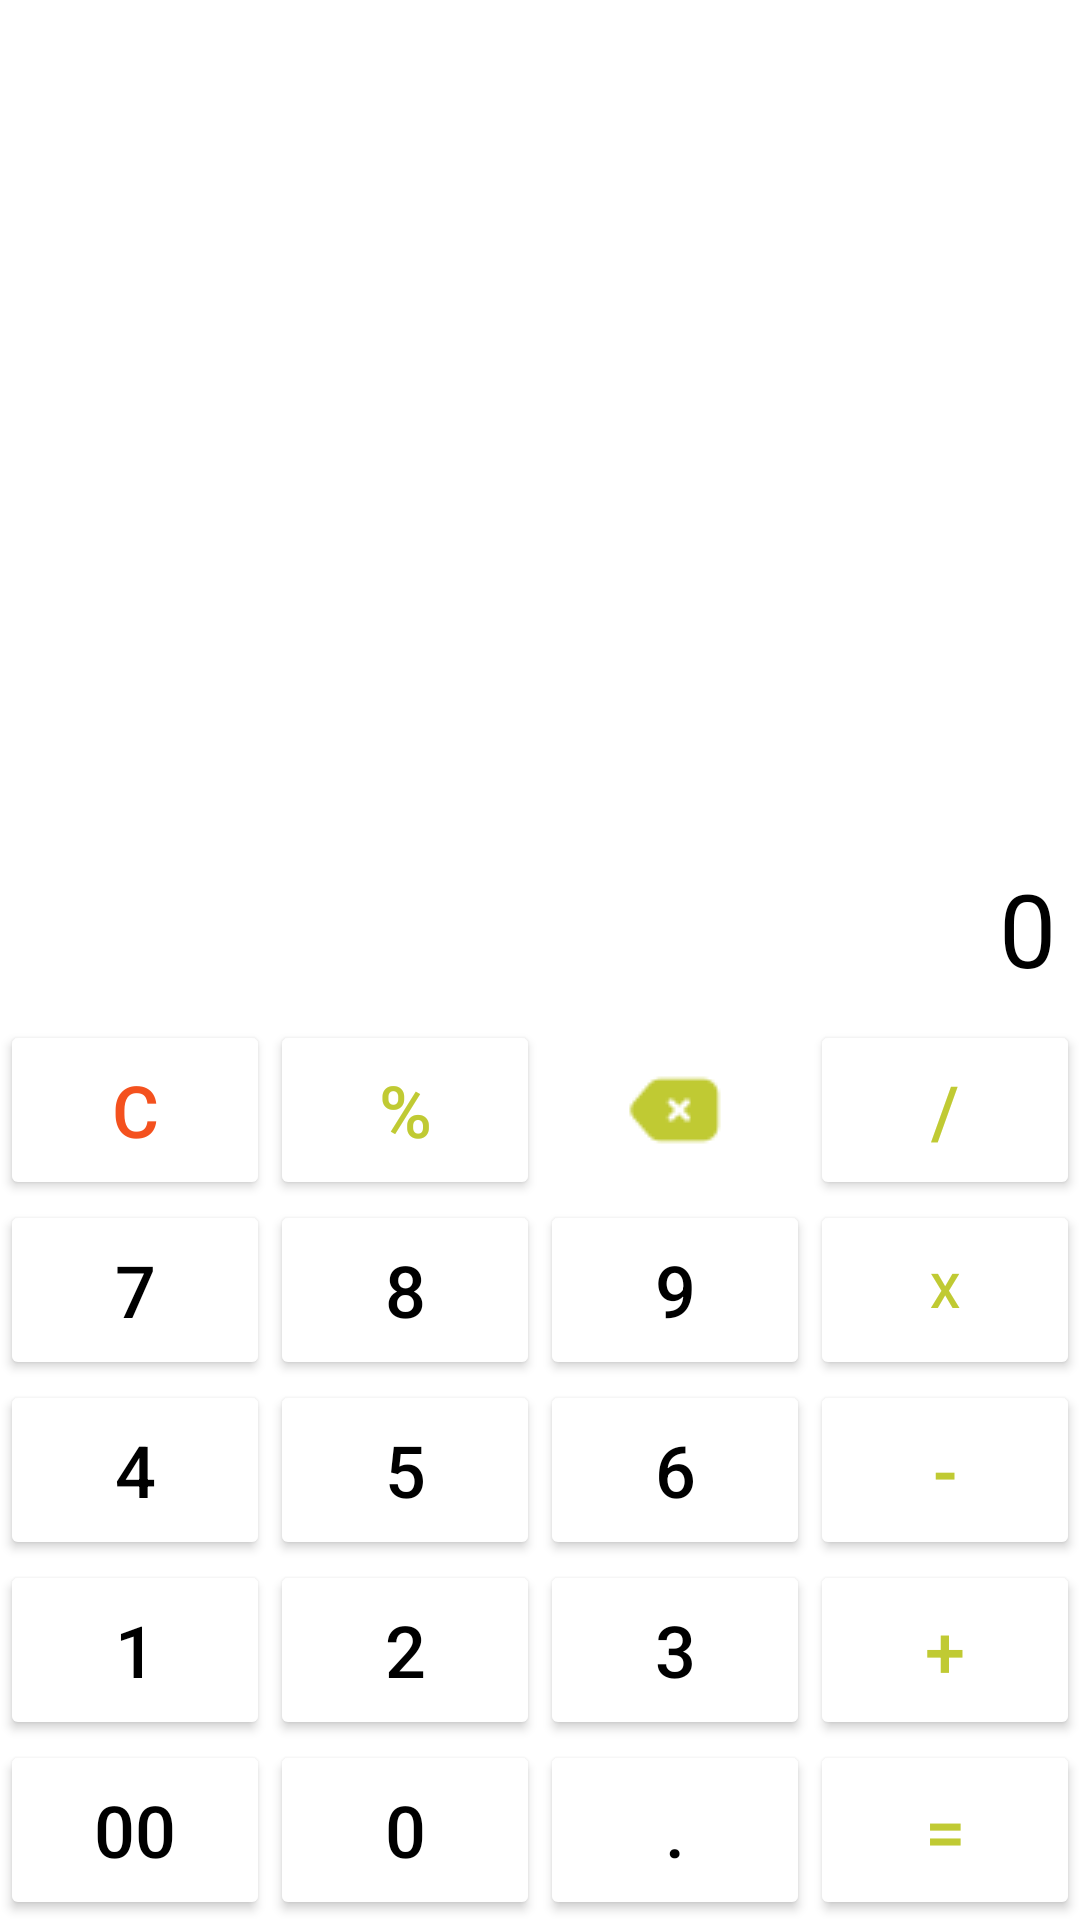

Screen size 1080×1920. Icon name, then its box in pixels as (x1, y1, x2, y2):
delete: (629, 1077, 720, 1143)
